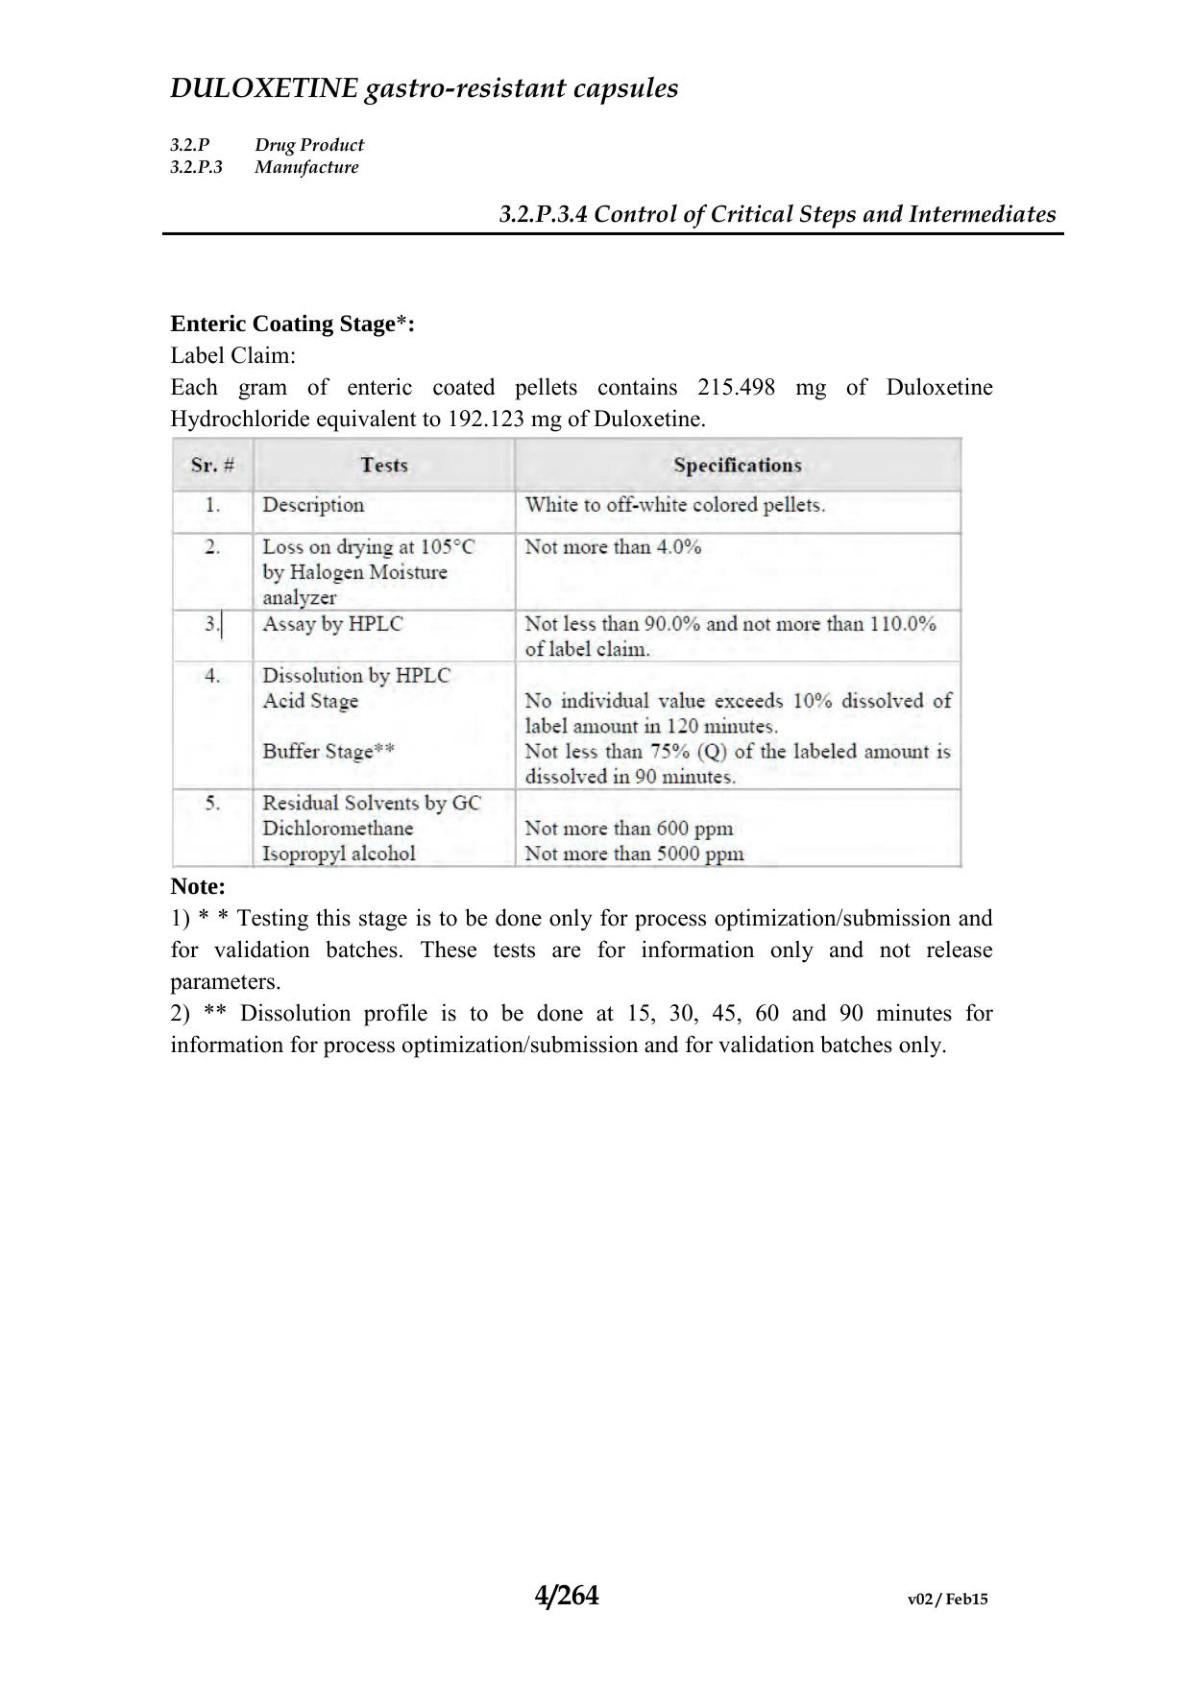full_lined: (159, 432, 973, 879)
